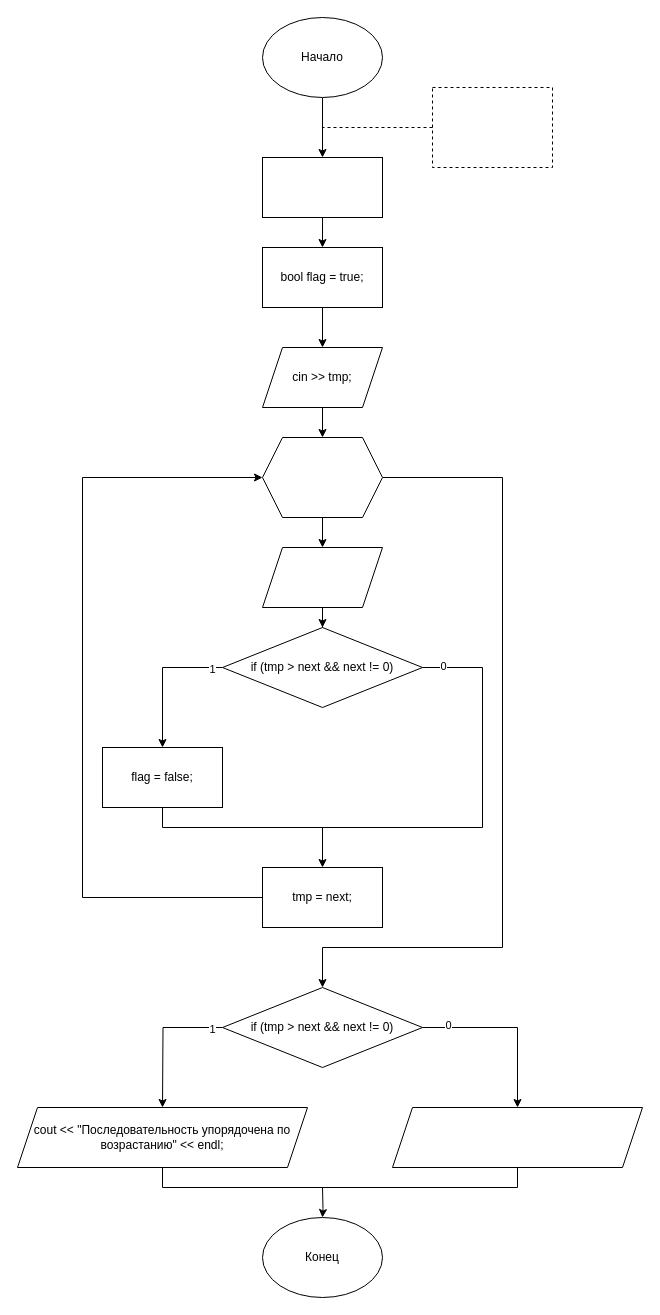
The diagram is 660 pixels wide and 1315 high, and some of its shapes have lost their labels. Each missing label, with the centre of its shape:
#include<iostream> using namespace std; int main(){ setlocale(LC_ALL, "RUS");}: the point at 492,127
cin >> next;: the point at 322,577
cout << "Последовательность не упорядочена" << endl;: the point at 517,1137
int tmp, next;: the point at 322,187
while (tmp != 0): the point at 322,477
